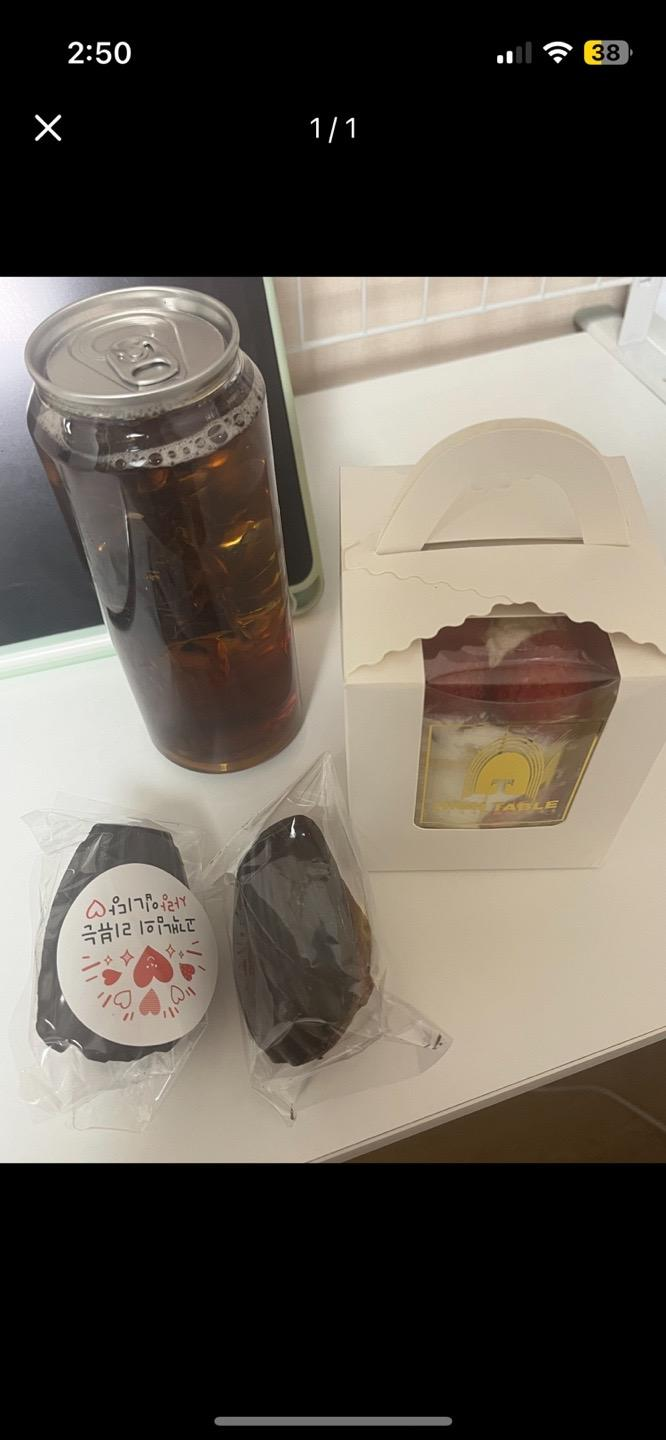Bottle: (26, 285, 301, 772)
